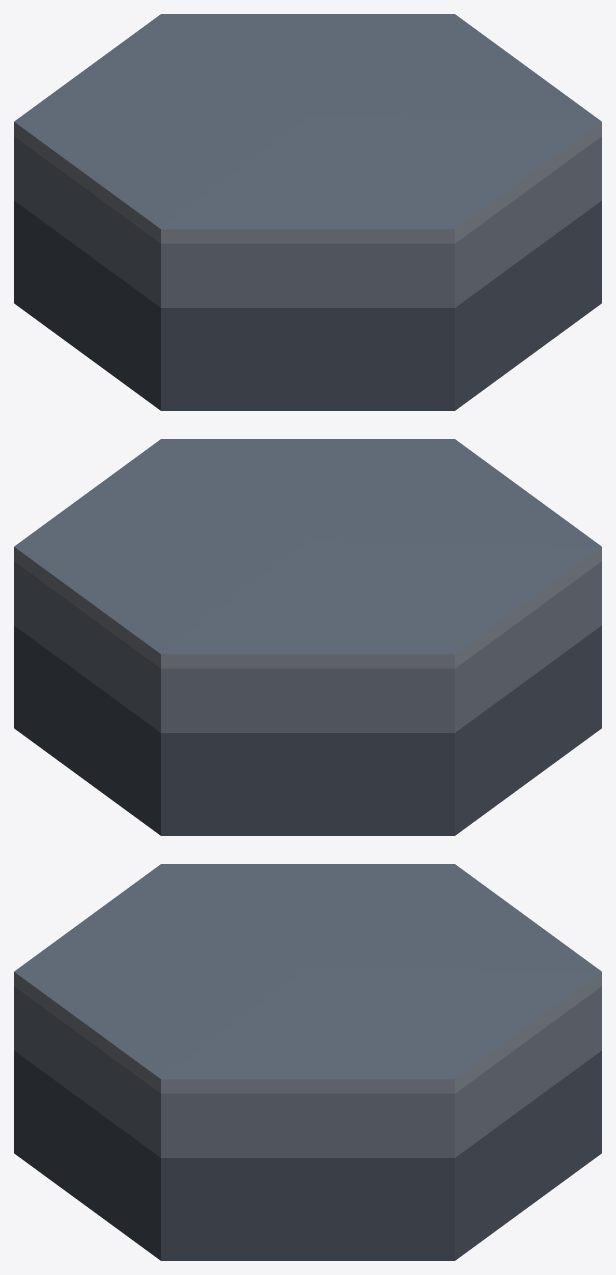
The model's file is AW-HEX-MOON-PAD-v0.1.glb.
The picture shows the model from 3 angles, top to bottom: view 1: azimuth 30°, elevation 25°; view 2: azimuth 150°, elevation 25°; view 3: azimuth 270°, elevation 25°; orthographic projection.
Visible parts, largest first — view 1: AW-HEX-MOON-PAD-v01; view 2: AW-HEX-MOON-PAD-v01; view 3: AW-HEX-MOON-PAD-v01.
Boxes of the visible parts, bbox=[...] form: AW-HEX-MOON-PAD-v01: bbox=[14, 14, 601, 410]; AW-HEX-MOON-PAD-v01: bbox=[14, 439, 601, 835]; AW-HEX-MOON-PAD-v01: bbox=[14, 864, 601, 1260].
Bounding box in the file's own units: 3.81 × 1.54 × 4.4.
